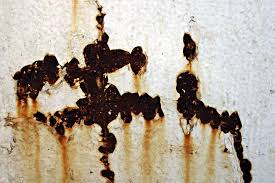rust: (74, 28, 132, 181), (13, 49, 151, 99), (43, 92, 167, 134), (173, 68, 208, 121), (199, 107, 246, 137), (231, 128, 256, 183), (181, 29, 200, 64)
